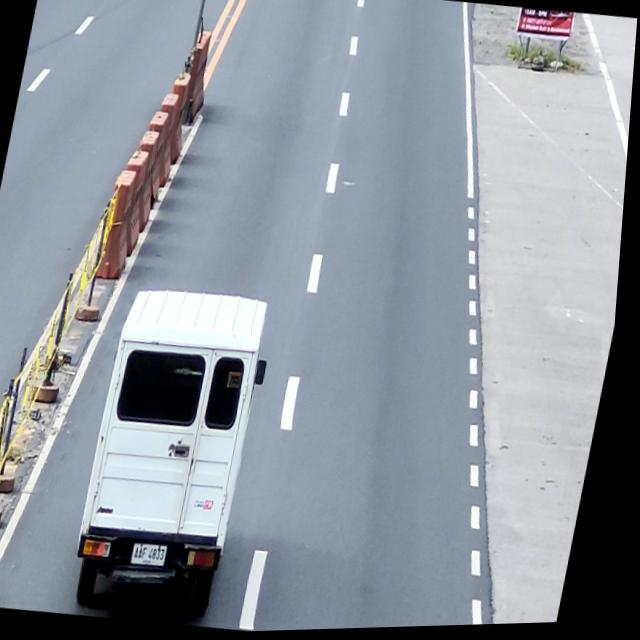Car: (72, 280, 287, 623)
License-Plate: (138, 541, 177, 570)
